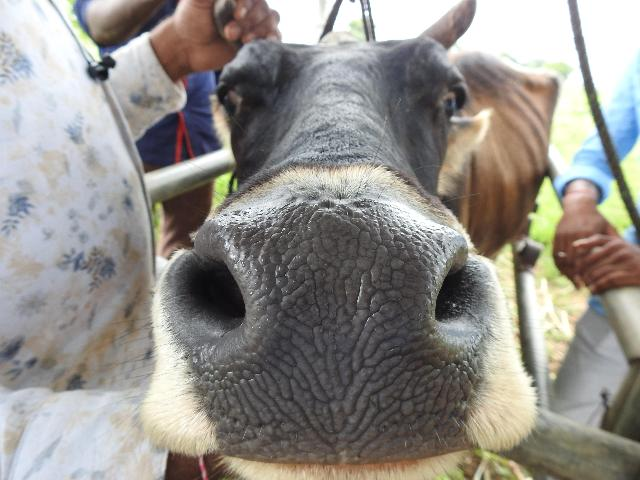Muzzle: (248, 207, 432, 434)
